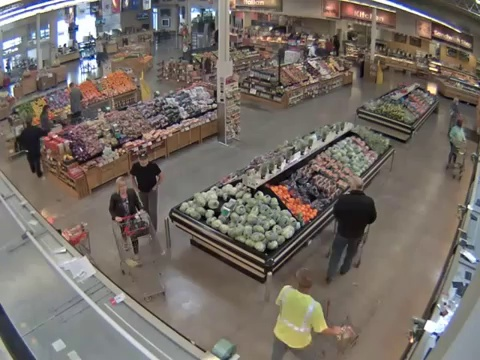face: (137, 156, 149, 167), (118, 182, 127, 194)
